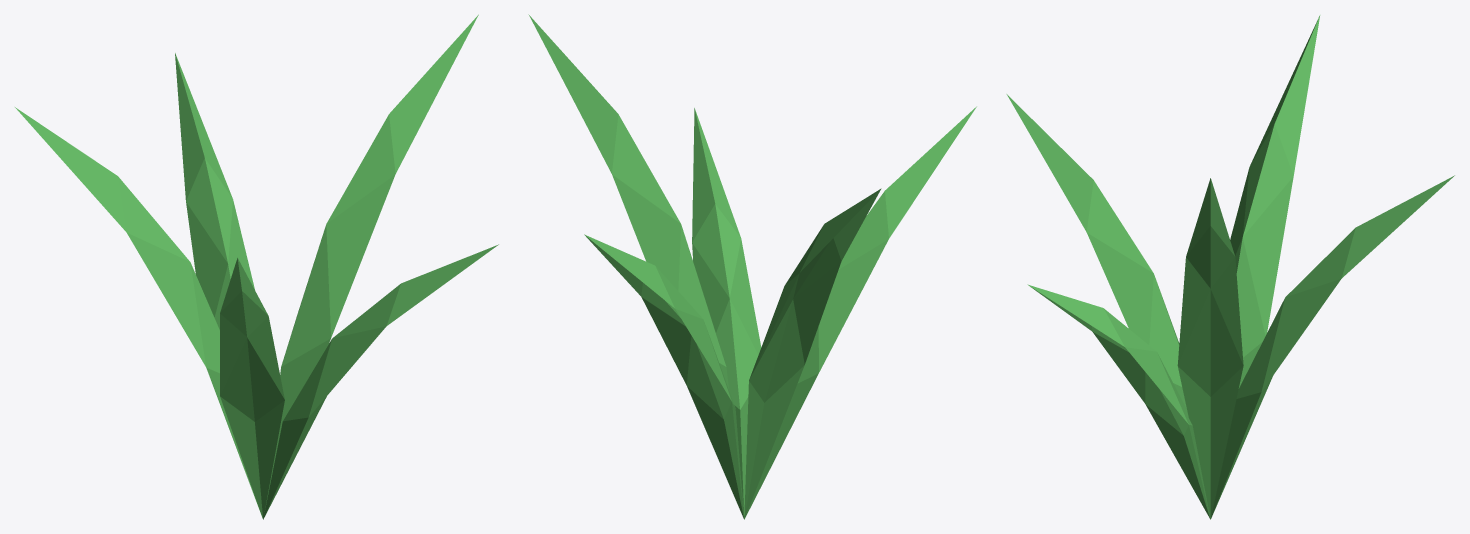
Rendered from Hilly_Prop_Grass_Clump_3.glb.
3 views of the same model, side by side, from view 1: azimuth 30°, elevation 25°; view 2: azimuth 150°, elevation 25°; view 3: azimuth 270°, elevation 25° (orthographic).
Visible parts, largest first — view 1: Hilly_Prop_Grass_Clump_3; view 2: Hilly_Prop_Grass_Clump_3; view 3: Hilly_Prop_Grass_Clump_3.
Boxes of the visible parts, x1=… form: Hilly_Prop_Grass_Clump_3: x1=15, y1=14, x2=498, y2=519; Hilly_Prop_Grass_Clump_3: x1=528, y1=14, x2=976, y2=519; Hilly_Prop_Grass_Clump_3: x1=1006, y1=15, x2=1454, y2=519.
Bounding box in the file's own units: 0.6287 × 0.6656 × 0.6077.
